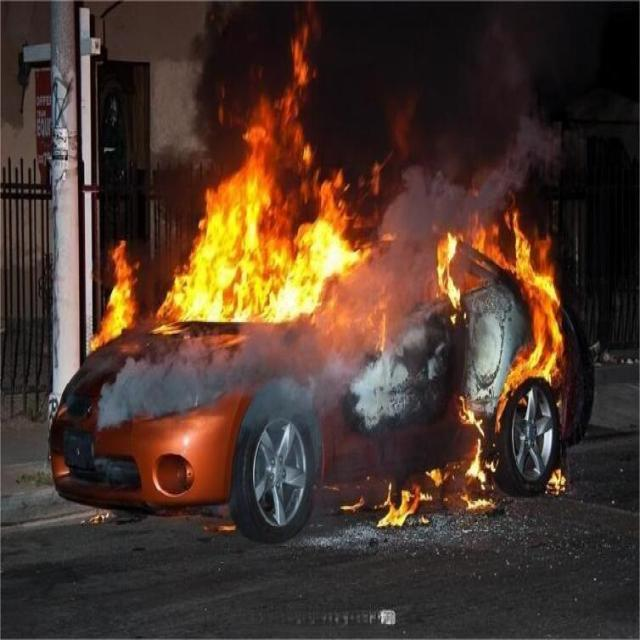Fire: (155, 117, 353, 324), (504, 209, 562, 385), (92, 240, 138, 356), (458, 396, 492, 512), (346, 482, 416, 530), (434, 233, 462, 314), (472, 203, 502, 266)
Smoke: (193, 0, 524, 119), (353, 116, 429, 328), (428, 120, 560, 207)
